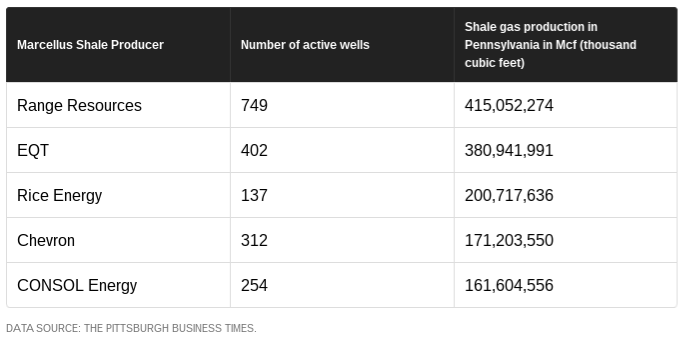fracking table: (4, 7, 682, 308)
